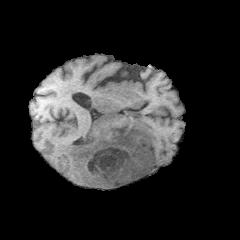glioma: (57, 122, 155, 188)
